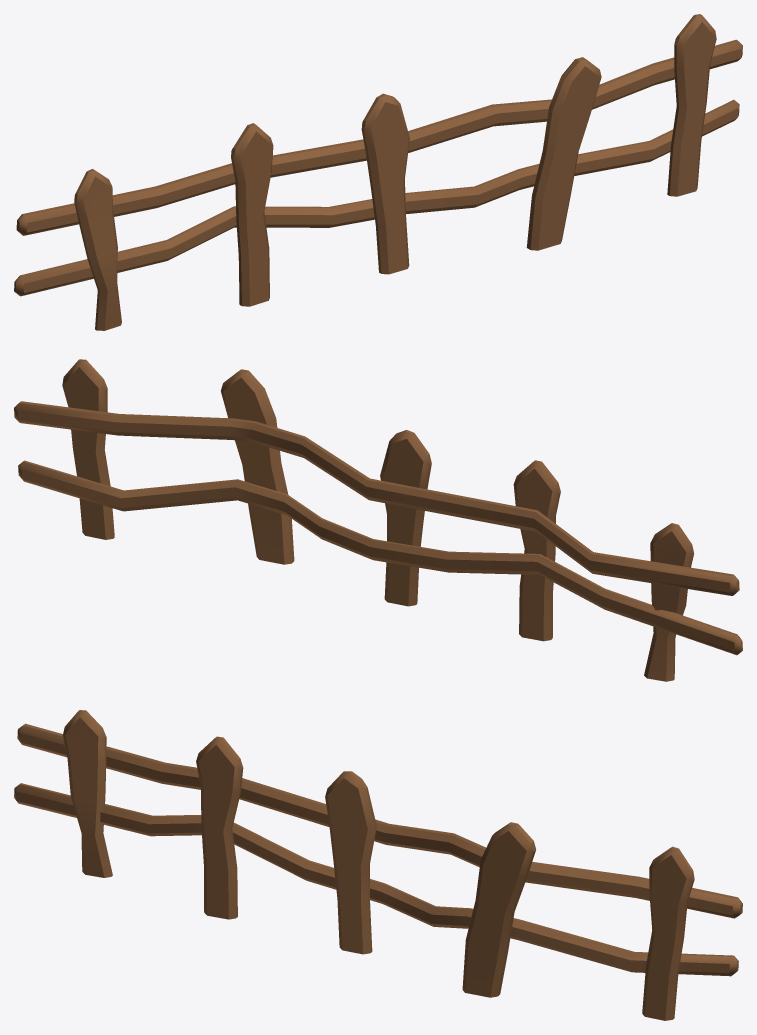
Rendered from fence-compressed.glb.
3 renders of one model, top to bottom at view 1: azimuth 30°, elevation 25°; view 2: azimuth 150°, elevation 25°; view 3: azimuth 330°, elevation 25°, orthographic.
Visible parts, largest first — view 1: fence; view 2: fence; view 3: fence.
Part boxes in pixels (bbox=[...]): fence: bbox=[14, 14, 742, 330]; fence: bbox=[14, 359, 742, 681]; fence: bbox=[14, 710, 742, 1020].
Size of the model in its own units: 4.48 by 1.05 by 0.4822.
